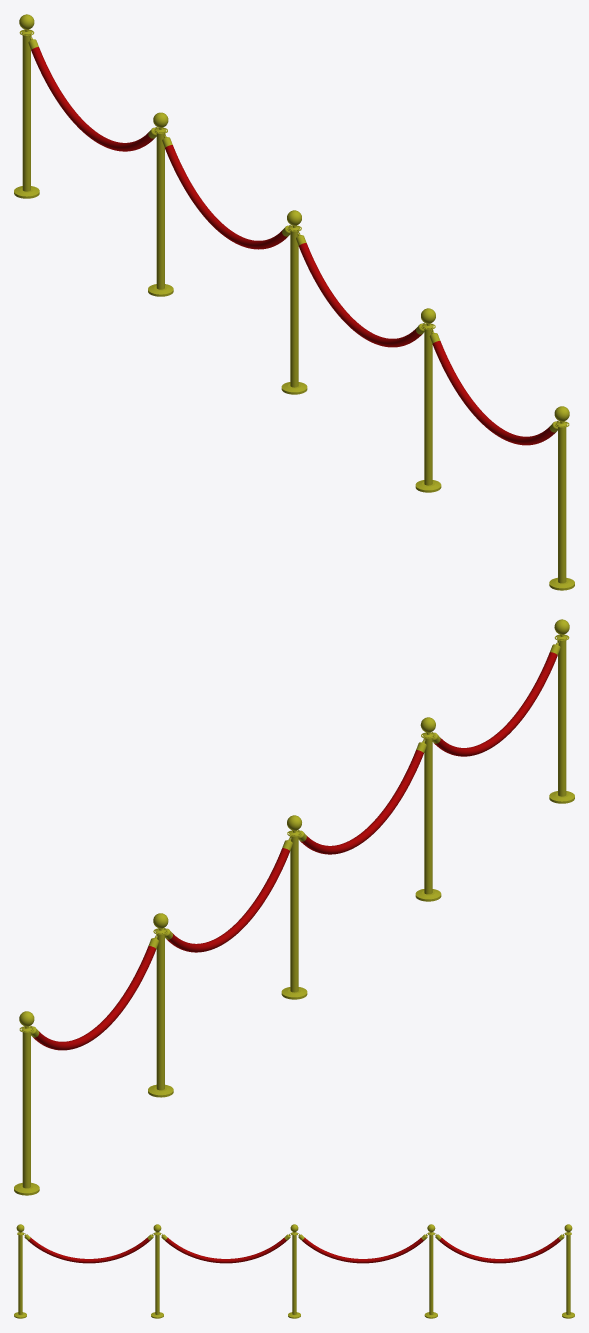
Rendered from RopeGuardSmall.fbx.
3 renders of one model, top to bottom at view 1: azimuth 30°, elevation 25°; view 2: azimuth 150°, elevation 25°; view 3: azimuth 270°, elevation 25°, orthographic. The views are drawn at different scales.
Parts seen in each view (by area): view 1: pCylinder24; view 2: pCylinder24; view 3: pCylinder24.
Boxes of the visible parts, x1=… form: pCylinder24: x1=14, y1=14, x2=574, y2=590; pCylinder24: x1=14, y1=619, x2=574, y2=1195; pCylinder24: x1=14, y1=1224, x2=574, y2=1318.
Bounding box in the file's own units: 1.87 × 14.31 × 79.83.
